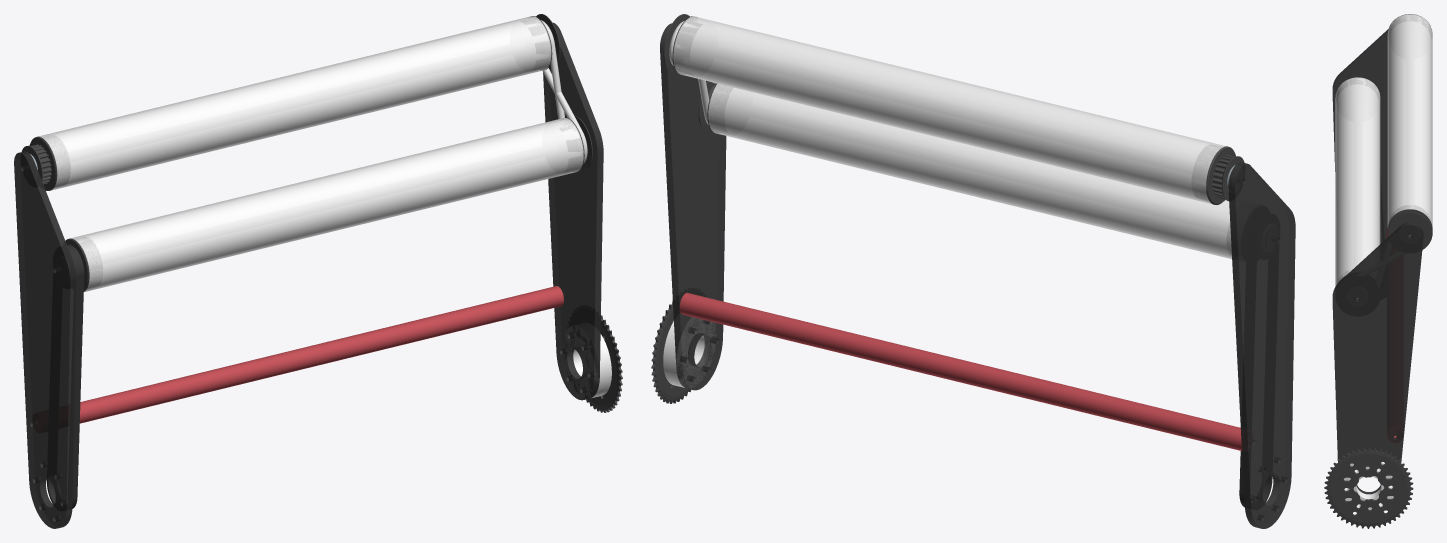
The picture shows the model from 3 angles, left to right: view 1: azimuth 30°, elevation 25°; view 2: azimuth 150°, elevation 25°; view 3: azimuth 270°, elevation 25°; orthographic projection. The views are drawn at different scales.
Visible parts, largest first — view 1: Tube (×2), Amp Arm (×2), 19.5" 3/4" Axle, Roller Hub (×4), 115t 5mm Belt, Amp Sprocket Spacer, 48t Aluminum Plate Sprocket (#25 Chain, SplineXL Bore), Amp Polycord (12.5"); view 2: Tube (×2), Amp Arm (×2), 19.5" 3/4" Axle, Roller Hub (×3), Amp Sprocket Spacer, 48t Aluminum Plate Sprocket (#25 Chain, SplineXL Bore); view 3: Amp Arm (×2), Tube (×2), 48t Aluminum Plate Sprocket (#25 Chain, SplineXL Bore), Roller Hub (×3), Amp Sprocket Spacer, 115t 5mm Belt.
Boxes of the visible parts, x1,y1,x2,y2 form: Tube (×2): [38, 16, 583, 291]; Amp Arm (×2): [14, 22, 603, 528]; 19.5" 3/4" Axle: [32, 286, 563, 432]; Roller Hub (×4): [21, 14, 592, 291]; 115t 5mm Belt: [47, 244, 84, 508]; Amp Sprocket Spacer: [563, 326, 611, 398]; 48t Aluminum Plate Sprocket (#25 Chain, SplineXL Bore): [586, 315, 622, 412]; Amp Polycord (12.5"): [541, 20, 587, 163]; Tube (×2): [673, 16, 1231, 259]; Amp Arm (×2): [660, 23, 1295, 528]; 19.5" 3/4" Axle: [679, 293, 1252, 451]; Roller Hub (×3): [663, 14, 1244, 204]; Amp Sprocket Spacer: [663, 317, 715, 387]; 48t Aluminum Plate Sprocket (#25 Chain, SplineXL Bore): [651, 301, 691, 403]; Amp Arm (×2): [1332, 29, 1423, 494]; Tube (×2): [1335, 14, 1432, 286]; 48t Aluminum Plate Sprocket (#25 Chain, SplineXL Bore): [1324, 447, 1413, 528]; Roller Hub (×3): [1335, 14, 1432, 249]; Amp Sprocket Spacer: [1344, 462, 1393, 512]; 115t 5mm Belt: [1380, 171, 1384, 241].
Size of the model in its own units: 0.578 by 0.3827 by 0.1223.
